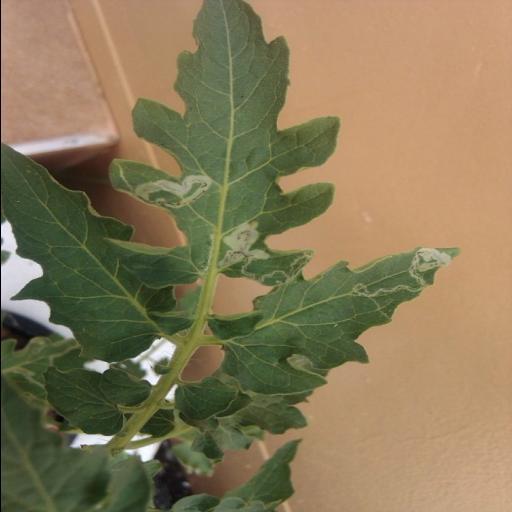Leaf Miner: (108, 0, 346, 287), (219, 240, 461, 394)
